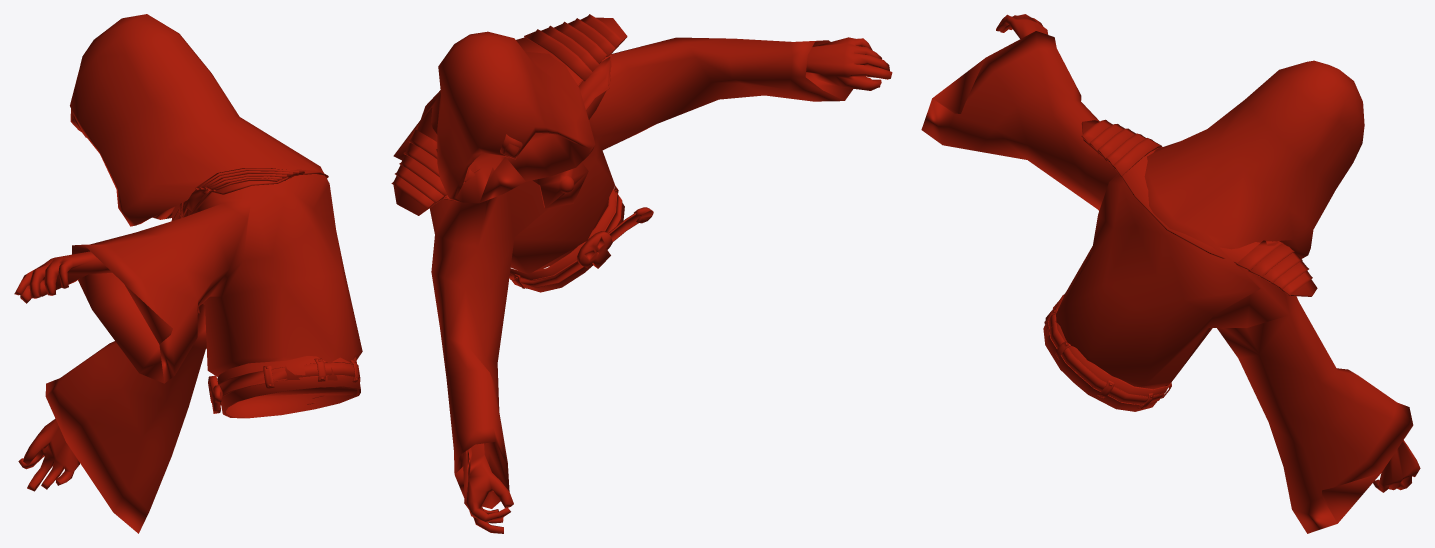
The model's file is top_000067.obj.
3 views of the same model, side by side, from view 1: azimuth 30°, elevation 25°; view 2: azimuth 150°, elevation 25°; view 3: azimuth 270°, elevation 25° (orthographic). The views are drawn at different scales.
Parts seen in each view (by area): view 1: LowPoly_Warlock.000_Plane.005; view 2: LowPoly_Warlock.000_Plane.005; view 3: LowPoly_Warlock.000_Plane.005.
Boxes of the visible parts, bbox=[...] form: LowPoly_Warlock.000_Plane.005: bbox=[14, 14, 362, 533]; LowPoly_Warlock.000_Plane.005: bbox=[391, 14, 892, 533]; LowPoly_Warlock.000_Plane.005: bbox=[921, 14, 1420, 533].
Bounding box in the file's own units: 1.2 × 1.44 × 1.37.
